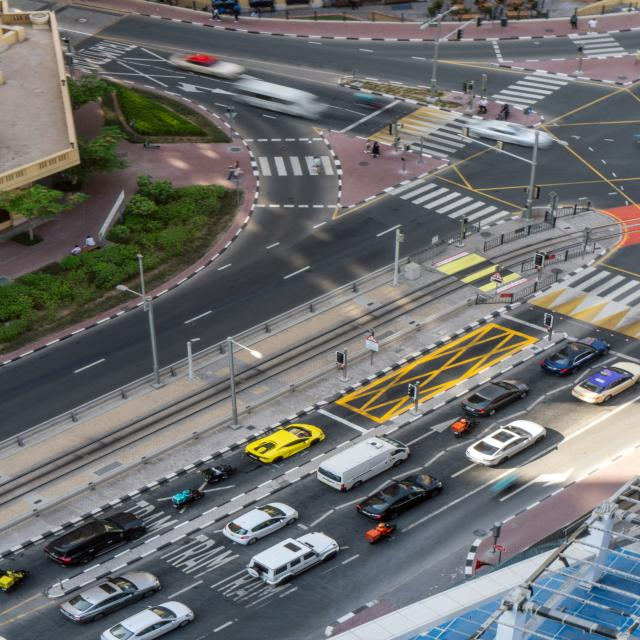Car: (44, 513, 145, 565), (317, 436, 410, 491), (60, 572, 160, 623), (248, 533, 339, 585), (228, 76, 328, 119), (357, 475, 442, 521), (466, 421, 545, 466), (101, 602, 193, 639), (245, 424, 324, 463), (223, 503, 298, 544), (572, 362, 639, 403), (541, 337, 609, 375), (462, 380, 529, 416), (169, 54, 246, 79), (469, 120, 535, 146)
